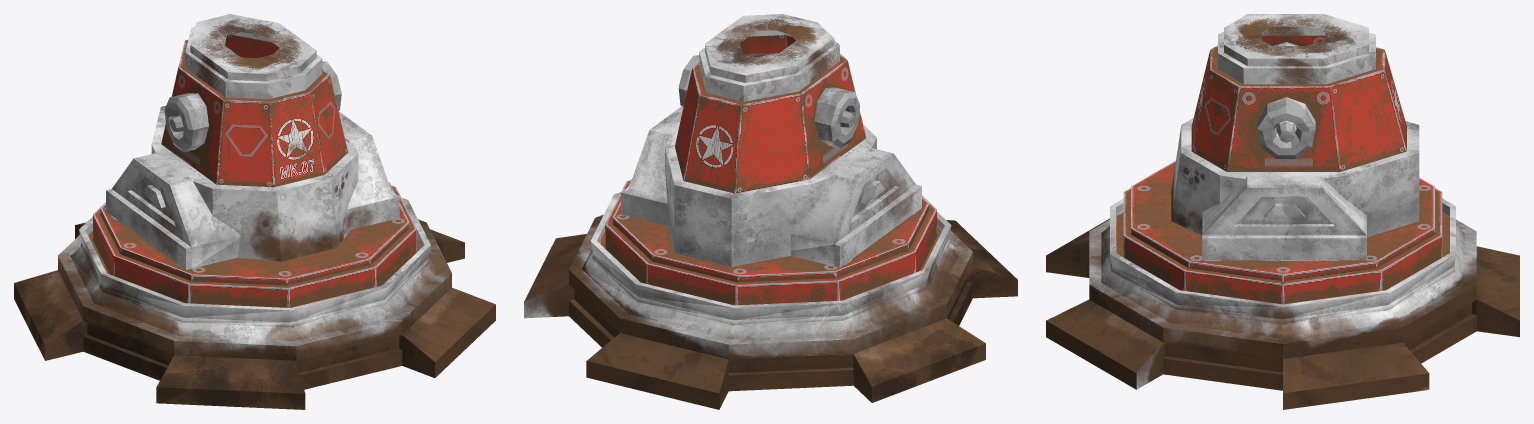
File: Turret Body.fbx
3 renders of one model, left to right at view 1: azimuth 30°, elevation 25°; view 2: azimuth 150°, elevation 25°; view 3: azimuth 270°, elevation 25°, orthographic. The views are drawn at different scales.
Visible parts, largest first — view 1: Tube002, Object004; view 2: Tube002, Object004; view 3: Tube002, Object004.
Part boxes in pixels (left/top/right/bottom): Tube002: left=14, top=14, right=495, bottom=409; Object004: left=88, top=34, right=421, bottom=307; Tube002: left=524, top=14, right=1017, bottom=409; Object004: left=599, top=35, right=941, bottom=305; Tube002: left=1046, top=14, right=1519, bottom=409; Object004: left=1116, top=35, right=1449, bottom=304.
Size of the model in its own units: 197 by 117 by 187.
